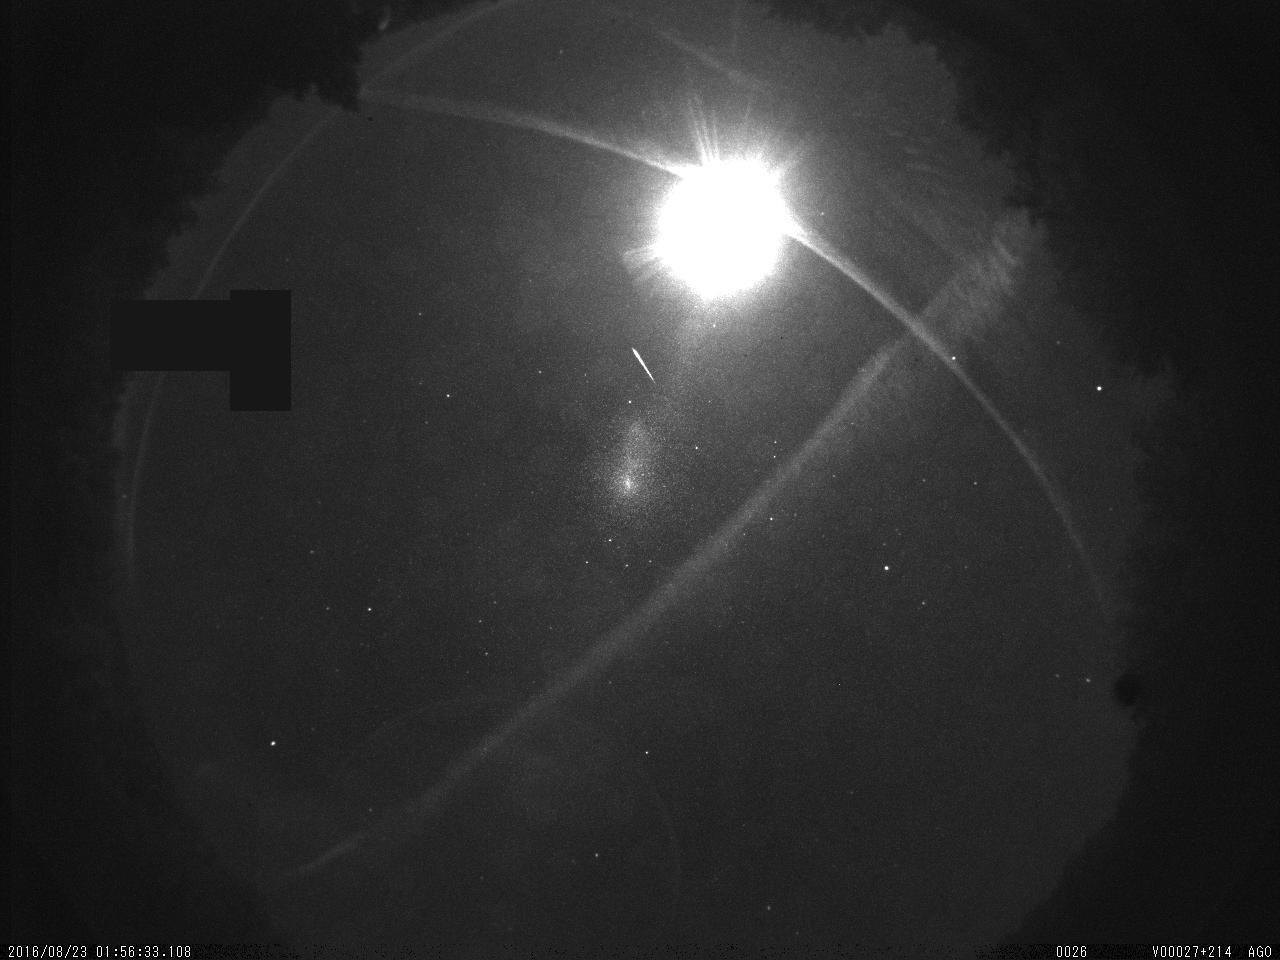meteor: (610, 333, 683, 400)
